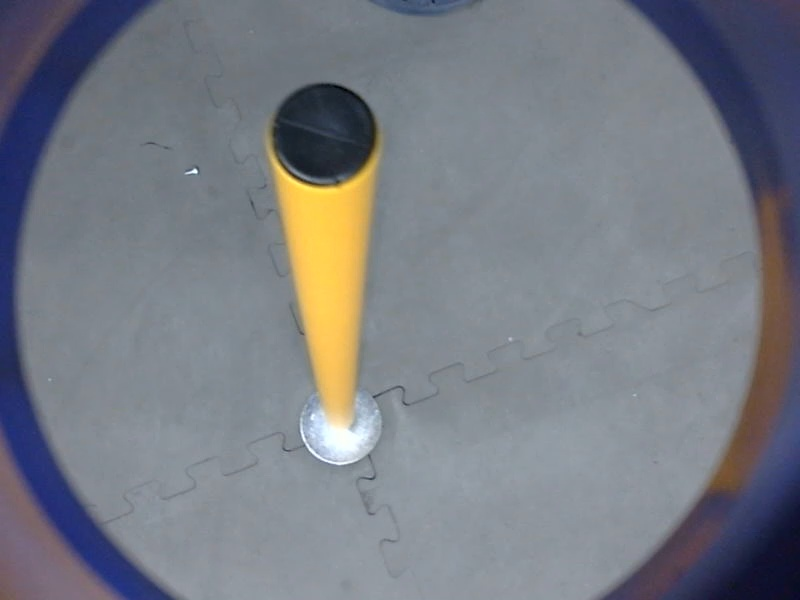tip: (258, 75, 387, 193)
